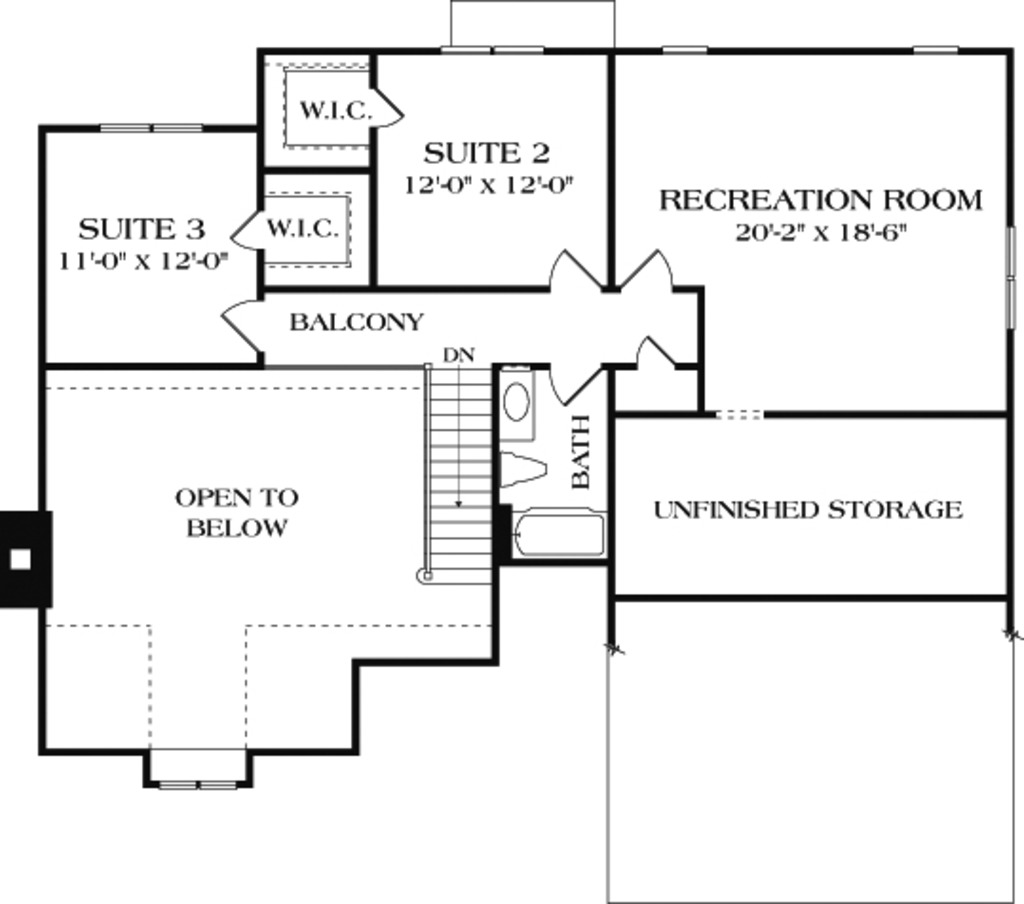door: (552, 365, 603, 403), (222, 297, 260, 347), (551, 251, 599, 287), (625, 254, 670, 288), (633, 338, 681, 364), (234, 209, 262, 249), (374, 87, 399, 125)
small_sink: (503, 365, 534, 438)
stairs: (429, 365, 497, 582)
tub: (507, 509, 600, 552)
window: (444, 47, 543, 54), (100, 127, 200, 130), (162, 784, 244, 787), (664, 49, 712, 51), (918, 49, 966, 50)
